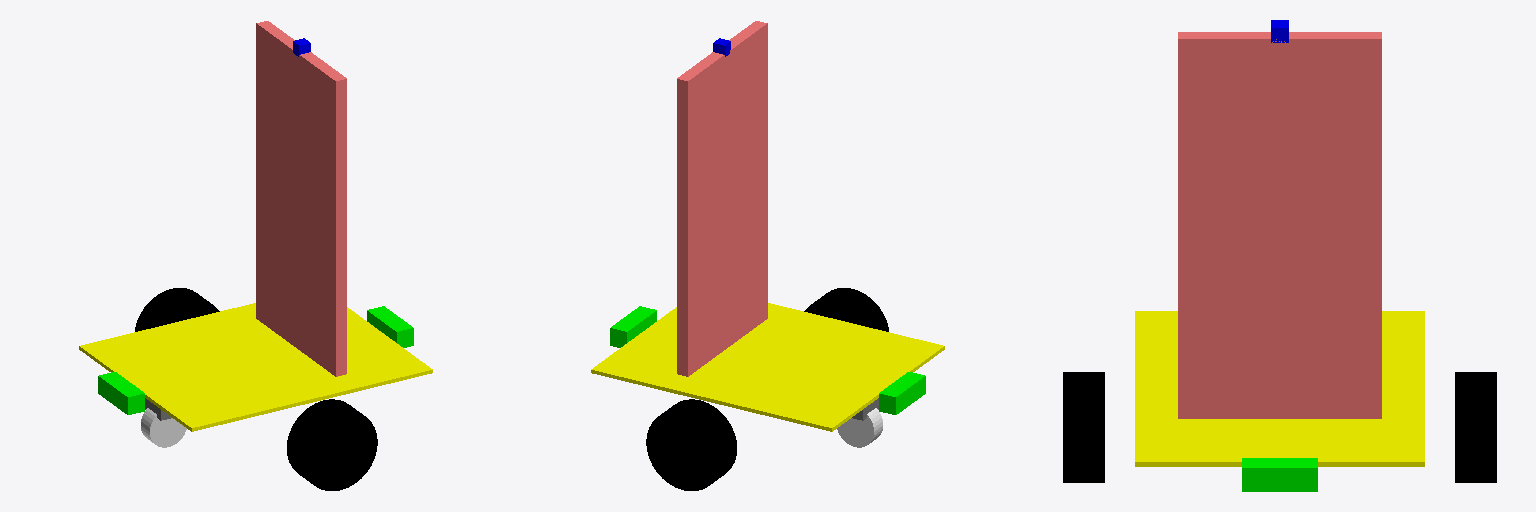
The robot description file, URDF, robot "orange_on_wheels":
<robot name="orange_on_wheels">

	<link name="base_link">
		<visual>
			<geometry>
				<box size="0.21 0.17 0.003"/>
			</geometry>
			<origin xyz="0 0 0.015" rpy="0 0 0"/>
			<material name="yellow">
				<color rgba="1 1 0 0.5"/>
			</material>
		</visual>
	</link>

	<link name="lwheel">
		<visual>
			<geometry>
				<cylinder length="0.025" radius="0.0325"/>
			</geometry>
			<origin rpy="0 0 0" xyz="0 0 0"/>
			<material name="black">
				<color rgba="0 0 0 1"/>
			</material>
		</visual>
	</link>

	<joint name="base_to_lwheel" type="fixed">
		<parent link="base_link"/>
		<child link="lwheel"/>
		<origin xyz="0 0.115 -0.01" rpy="1.5708 0 0"/>
	</joint>

	<link name="rwheel">
		<visual>
			<geometry>
				<cylinder length="0.025" radius="0.0325"/>
			</geometry>
			<origin rpy="0 0 0" xyz="0 0 0"/>
			<material name="black">
				<color rgba="0 0 0 1"/>
			</material>
		</visual>
	</link>

	<joint name="base_to_rwheel" type="fixed">
		<parent link="base_link"/>
		<child link="rwheel"/>
		<origin xyz="0 -0.115 -0.01" rpy="-1.5708 0 0"/>
	</joint>

	<link name="back_wheel">
		<visual>
			<geometry>
				<cylinder length="0.014" radius="0.0165"/>
			</geometry>
			<origin rpy="1.578 0 0" xyz="0 0 0"/>
			<material name="white">
				<color rgba="0.9 0.9 0.9 1"/>
			</material>
		</visual>
	</link>

	<link name="back_wheel_attach">
		<visual>
			<geometry>
				<box size="0.02 0.025 0.02"/>
			</geometry>
			<origin rpy="0 0 0" xyz="0 0 0"/>
			<material name="gray">
				<color rgba="0.5 0.5 0.5 1"/>
			</material>
		</visual>
	</link>

	<joint name="base_to_back_attach" type="fixed">
		<parent link="base_link"/>
		<child link="back_wheel_attach"/>
		<origin xyz="-0.08 0 0" rpy="0 0 0"/>
	</joint>

	<joint name="back_wheel_attach_to_back_wheel" type="fixed">
		<parent link="back_wheel_attach"/>
		<child link="back_wheel"/>
		<origin xyz="0 0 -0.02" rpy="0 0 0"/>
	</joint>

	<link name="back_ultrasound">
		<visual>
			<geometry>
				<box size="0.015 0.045 0.015"/>
			</geometry>
			<origin rpy="0 0 0" xyz="-0.022 0 0.007"/>
			<material name="green">
				<color rgba="0 1 0 1"/>
			</material>
		</visual>
	</link>

	<joint name="base_to_back_scanner" type="fixed">
		<parent link="base_link"/>
		<child link="back_ultrasound"/>
		<origin xyz="-0.095 0 0.007" rpy="0 0 0"/>
	</joint>

	<link name="ultrasound">
		<visual>
			<geometry>
				<box size="0.015 0.045 0.015"/>
			</geometry>
			<origin rpy="0 0 0" xyz="0.022 0 0.007"/>
			<material name="green">
				<color rgba="0 1 0 1"/>
			</material>
		</visual>
	</link>

	<joint name="base_to_scanner" type="fixed">
		<parent link="base_link"/>
		<child link="ultrasound"/>
		<origin xyz="0.095 0 0.007" rpy="0 0 0"/>
	</joint>

	<joint name="base_to_base_footprint" type="fixed">
		<parent link="base_link"/>
		<child link="base_footprint"/>
		<origin xyz="0.04 0 0.135" rpy="0 0 0"/>
	</joint>

	<joint name="base_footprint_to_imu" type="fixed">
		<parent link="base_footprint"/>
		<child link="imu"/>
		<origin xyz="0 0 0.1" rpy="0 0 0"/>
	</joint>

	<link name="base_footprint">
		<visual>
			<geometry>
				<box size="0.01 0.12 0.255"/>
			</geometry>
			<origin xyz="0 0 0" rpy="0 0 0"/>
			<material name="orange">
				<color rgba="1 0.5 0.5 0.5"/>
			</material>
		</visual>
	</link>

	<link name="imu">
		<visual>
			<geometry>
				<box size="0.01 0.01 0.01"/>
			</geometry>
			<origin rpy="0 0 0" xyz="0 0 0.03"/>
			<material name="blue">
				<color rgba="0 0 1 1"/>
			</material>
		</visual>
	</link>

	<link name="odom">
	</link>

	<joint name="base_to_odom" type="fixed">
		<parent link="odom"/>
		<child link="base_link"/>
		<origin xyz="0 0 0" rpy="0 0 0"/>
	</joint>

</robot>

--- What the picture shows (computed from the rendered views, not written in the file) ---
The picture shows the robot from 3 angles, left to right: view 1: azimuth 30°, elevation 25°; view 2: azimuth 150°, elevation 25°; view 3: azimuth 270°, elevation 25°; orthographic projection.
Robot: orange_on_wheels — 10 links, 9 joints (9 fixed); root link odom; default pose: every joint at zero.
Visible links, largest first — view 1: base_footprint, base_link, rwheel, lwheel, back_ultrasound, ultrasound, back_wheel; view 2: base_footprint, base_link, lwheel, rwheel, back_ultrasound, ultrasound, back_wheel; view 3: base_footprint, base_link, lwheel, rwheel, ultrasound.
Link boxes in pixels (x1=…): base_footprint: x1=256, y1=21, x2=346, y2=376; base_link: x1=79, y1=303, x2=432, y2=431; rwheel: x1=287, y1=399, x2=377, y2=490; lwheel: x1=135, y1=288, x2=219, y2=331; back_ultrasound: x1=98, y1=372, x2=144, y2=414; ultrasound: x1=367, y1=306, x2=413, y2=347; back_wheel: x1=141, y1=408, x2=186, y2=447; base_footprint: x1=677, y1=21, x2=767, y2=376; base_link: x1=591, y1=303, x2=944, y2=431; lwheel: x1=646, y1=399, x2=736, y2=490; rwheel: x1=804, y1=288, x2=888, y2=331; back_ultrasound: x1=879, y1=372, x2=925, y2=414; ultrasound: x1=610, y1=306, x2=656, y2=347; back_wheel: x1=837, y1=408, x2=882, y2=447; base_footprint: x1=1178, y1=32, x2=1381, y2=418; base_link: x1=1135, y1=311, x2=1424, y2=466; lwheel: x1=1455, y1=372, x2=1496, y2=482; rwheel: x1=1063, y1=372, x2=1104, y2=482; ultrasound: x1=1242, y1=458, x2=1317, y2=491.
Bounding box of the posed robot: 0.249 × 0.255 × 0.3125 m (x, y, z).
Geometry: primitives only (box / cylinder / sphere), no mesh files.